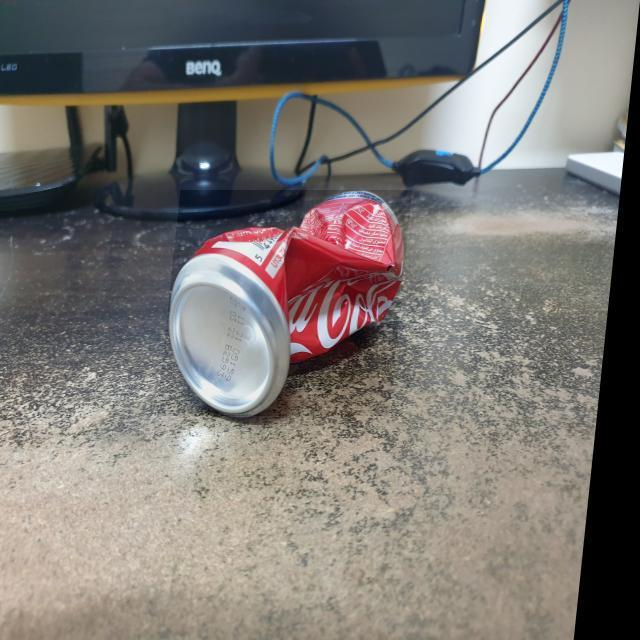trash: (167, 190, 417, 416)
